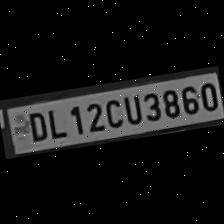0: (196, 78, 220, 112)
1: (62, 102, 84, 136)
2: (80, 97, 106, 133)
3: (138, 88, 162, 122)
6: (176, 80, 200, 116)
8: (158, 85, 182, 119)
C: (102, 95, 124, 129)
D: (22, 108, 48, 142)
L: (44, 103, 68, 139)
U: (118, 90, 142, 126)
